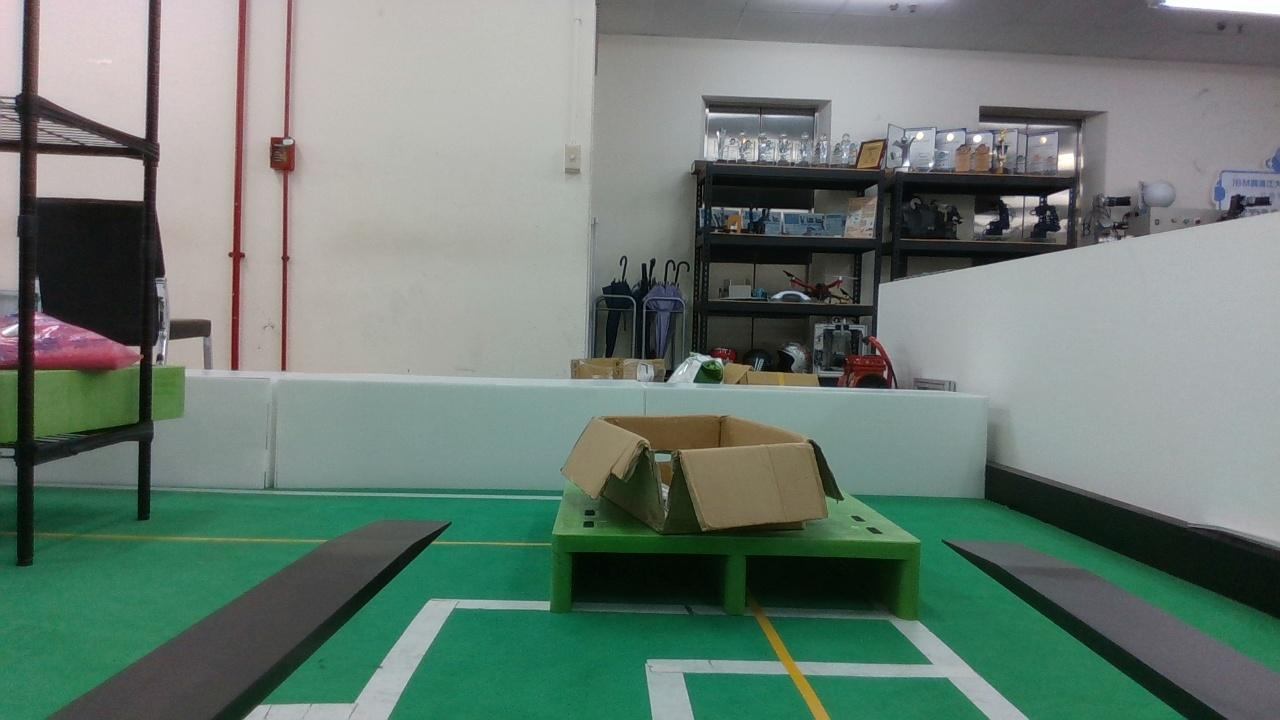Pallet: (545, 535, 924, 622)
